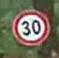limite 30: (10, 8, 50, 46)
